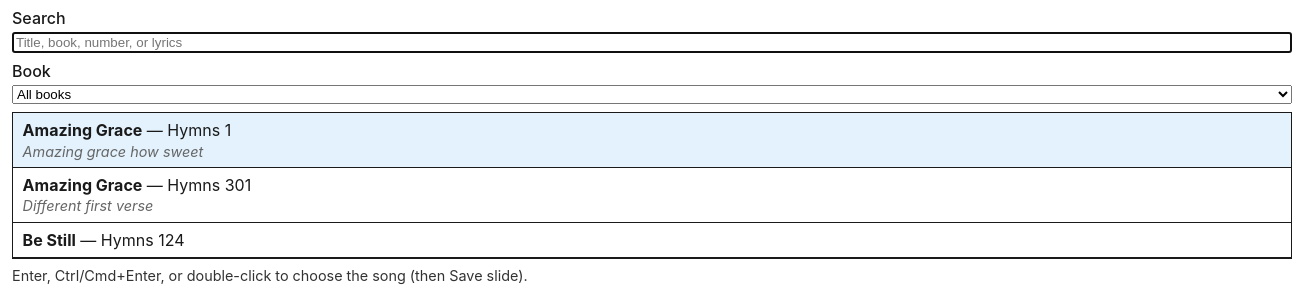
Test: LibrarySongPicker (AC-008, AC-012, AC-016, REQ-015) › AC-008 / AC-016: searches via q= for title, book, number, and lyrics
The width and height of the screenshot is (1304, 302).
Expected: the option with test id "library-song-row-a1" is shown, [13,113,1291,168]
Type "unique" into the search field with test id "library-song-search".
click(652, 42); type("unique")  # box [12,32,1292,53]
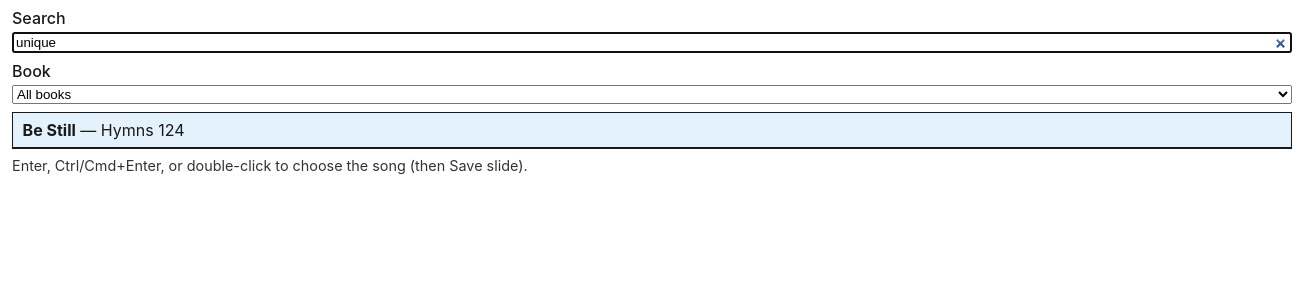
Expected: the option with test id "library-song-row-b1" is shown, [13,113,1291,148]
Result: the option with test id "library-song-row-a1" is gone
